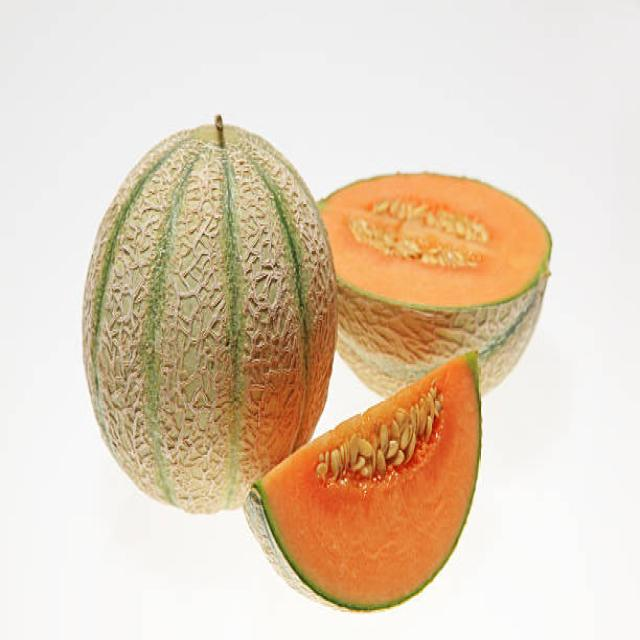cantaloupe: (81, 111, 336, 516), (242, 351, 482, 616), (309, 171, 552, 404)
